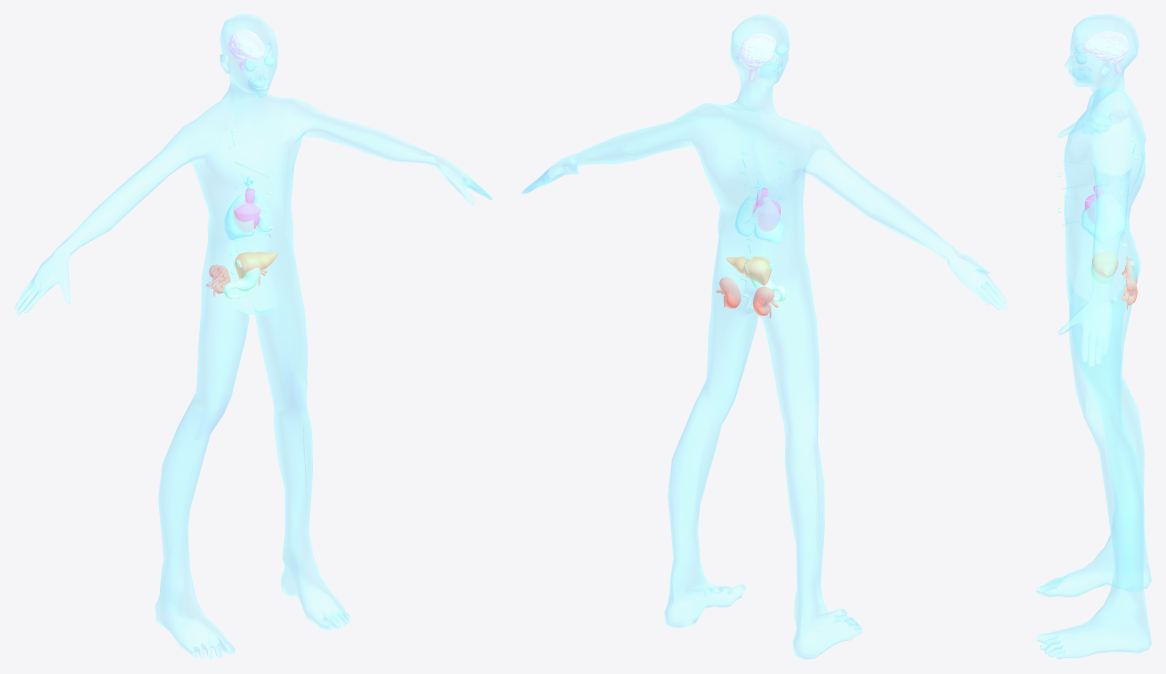
The model's file is full-body.glb.
3 renders of one model, left to right at view 1: azimuth 30°, elevation 25°; view 2: azimuth 150°, elevation 25°; view 3: azimuth 270°, elevation 25°, orthographic.
Visible parts, largest first — view 1: M_lowpoly_0, Lungs, Brain, Stomach, Liver, Heart; view 2: M_lowpoly_0, Lungs, Brain, Liver; view 3: M_lowpoly_0, Lungs, Brain, Liver, KidneyR, Heart, KidneyL, Stomach.
Part boxes in pixels (left/top/right/bottom): M_lowpoly_0: left=14, top=14, right=492, bottom=659; Lungs: left=224, top=176, right=273, bottom=240; Brain: left=228, top=29, right=265, bottom=70; Stomach: left=223, top=259, right=260, bottom=299; Liver: left=235, top=251, right=277, bottom=278; Heart: left=233, top=201, right=260, bottom=232; M_lowpoly_0: left=521, top=14, right=1007, bottom=659; Lungs: left=734, top=178, right=784, bottom=243; Brain: left=738, top=33, right=776, bottom=81; Liver: left=726, top=256, right=771, bottom=285; M_lowpoly_0: left=1036, top=14, right=1151, bottom=659; Lungs: left=1081, top=175, right=1124, bottom=242; Brain: left=1082, top=31, right=1129, bottom=73; Liver: left=1092, top=252, right=1118, bottom=277; KidneyR: left=1121, top=276, right=1137, bottom=309; Heart: left=1084, top=194, right=1096, bottom=223; KidneyL: left=1121, top=258, right=1137, bottom=283; Stomach: left=1090, top=250, right=1112, bottom=288.
Bounding box in the file's own units: 3.3 × 4 × 0.6911.
